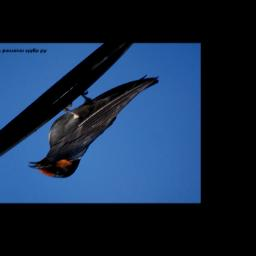Swallow: (28, 77, 160, 179)
